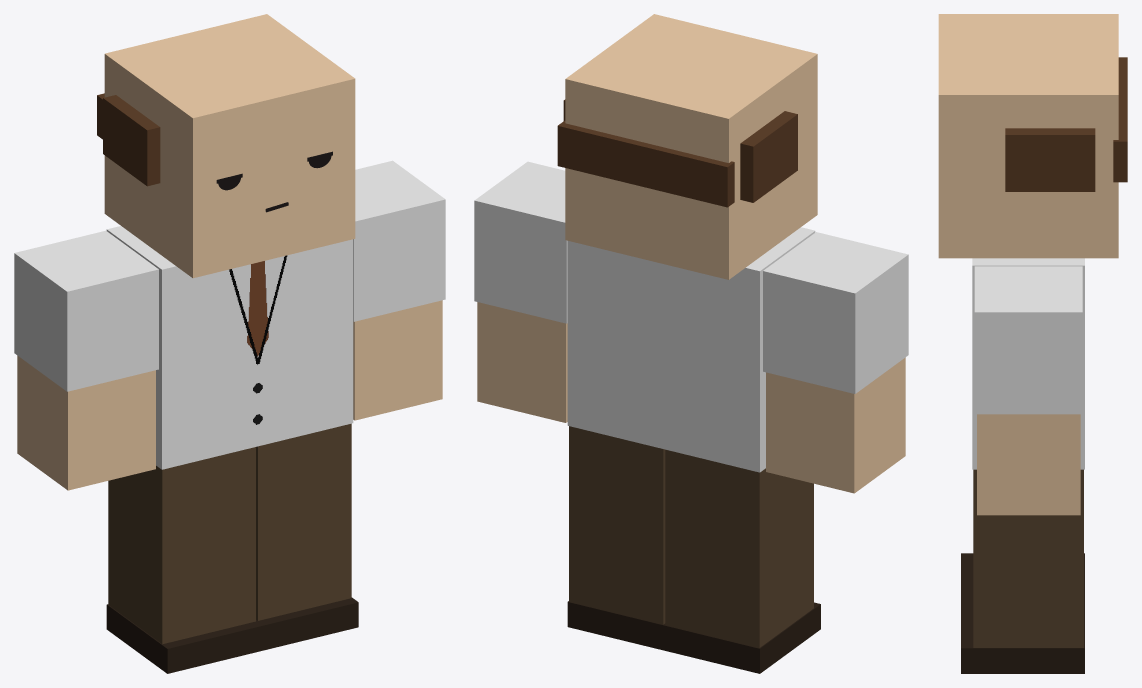
File: dad_bald.glb
The picture shows the model from 3 angles, left to right: view 1: azimuth 30°, elevation 25°; view 2: azimuth 150°, elevation 25°; view 3: azimuth 270°, elevation 25°; orthographic projection. The views are drawn at different scales.
Parts seen in each view (by area): view 1: head, torso, arm_R, leg_R, arm_L, leg_L, face; view 2: head, torso, arm_R, leg_R, arm_L, leg_L; view 3: head, arm_L, leg_L, torso, leg_R.
Part boxes in pixels (bbox=[...]): head: bbox=[97, 14, 355, 278]; torso: bbox=[106, 226, 353, 469]; arm_R: bbox=[14, 230, 158, 490]; leg_R: bbox=[106, 447, 262, 673]; arm_L: bbox=[353, 160, 445, 420]; leg_L: bbox=[256, 423, 358, 650]; face: bbox=[216, 151, 332, 212]; head: bbox=[557, 14, 817, 279]; torso: bbox=[567, 227, 815, 472]; arm_R: bbox=[763, 232, 908, 493]; leg_R: bbox=[663, 449, 820, 673]; arm_L: bbox=[474, 161, 567, 422]; leg_L: bbox=[567, 426, 665, 650]; head: bbox=[938, 14, 1127, 258]; arm_L: bbox=[974, 266, 1082, 515]; leg_L: bbox=[961, 469, 1084, 673]; torso: bbox=[972, 258, 1084, 469]; leg_R: bbox=[961, 553, 1084, 600].
Bounding box in the file's own units: 0.99 × 1.4 × 0.423.
Materials: 8 (2 with a texture image).
